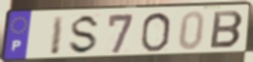0: (177, 10, 208, 52)
7: (106, 12, 137, 54)
B: (208, 10, 246, 50)
I: (48, 14, 66, 57)
O: (139, 11, 173, 54)
S: (66, 13, 102, 56)
